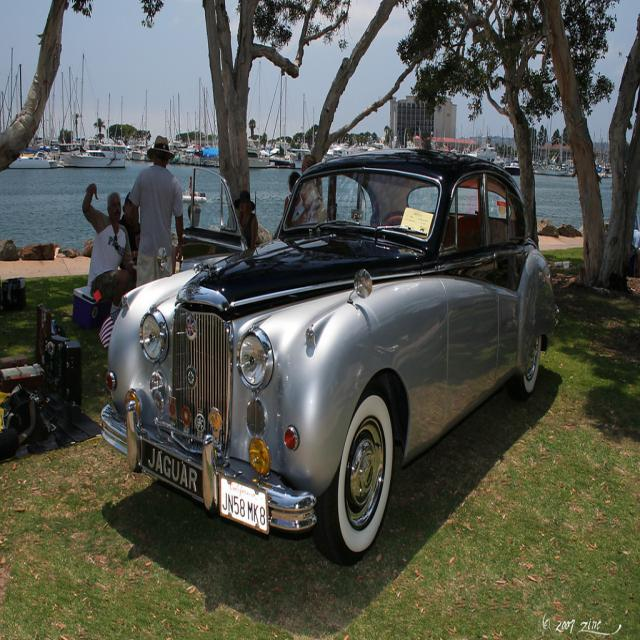car: (100, 148, 561, 568)
